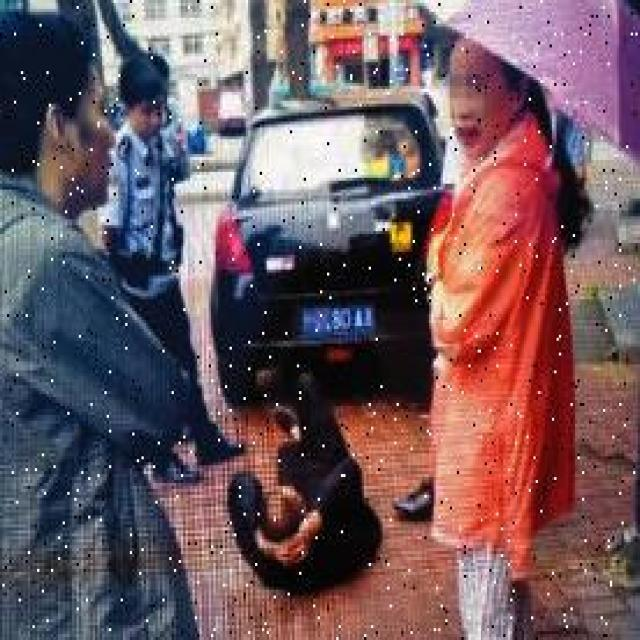fall: (230, 364, 368, 598)
